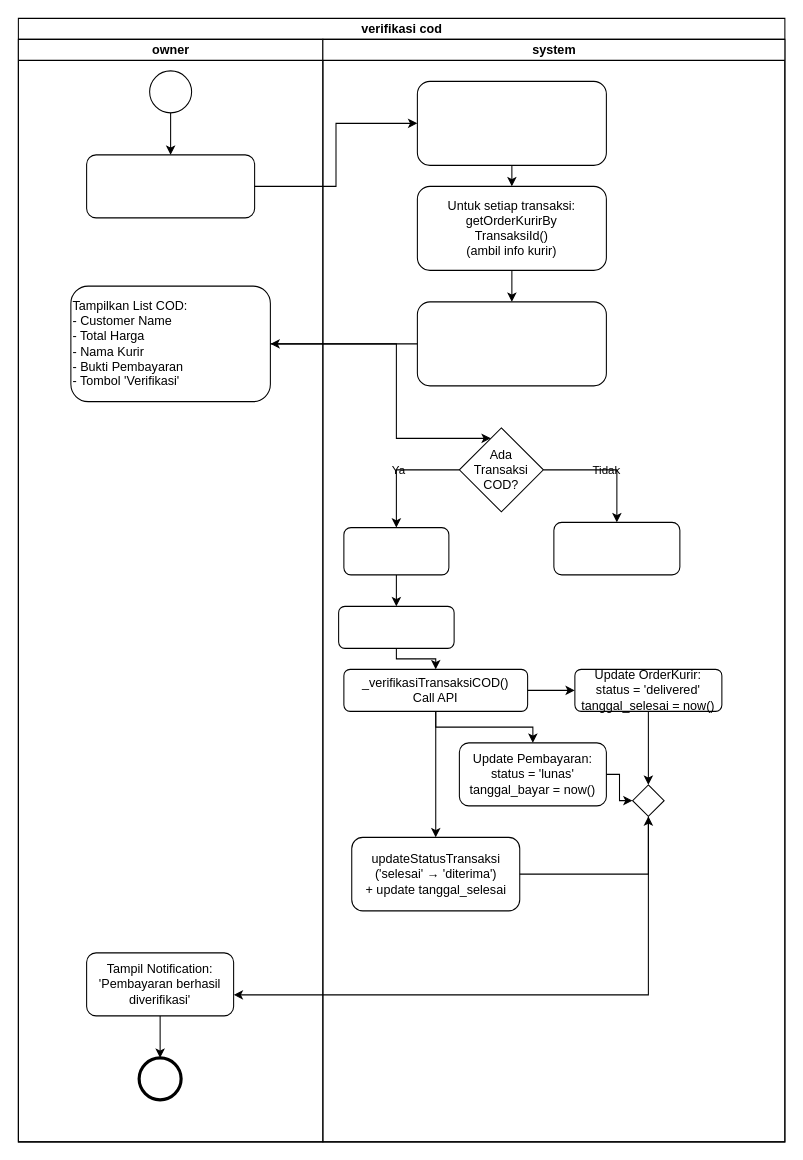
Some shapes in this 803 by 1160 pixel diagram are drawn without their labels. The shapes that lost their labels are listed below. From the top down, each one's centre as x and y in pixels, then its label:
At (x=511, y=122): "getTransaksiByStatus ('selesai') (filter transaksi dengan is_delivery = true)".
At (x=170, y=186): "Klik 'Verifikasi Pembayaran'".
At (x=511, y=343): "getPembayaranCOD ByTransaksiId() (cek bukti pembayaran)".
At (x=396, y=551): "Owner pilih transaksi untuk diverifikasi".
At (x=616, y=548): "Tampil: 'Semua transaksi COD lunas!'".
At (x=396, y=626): "Klik tombol 'Verifikasi Pembayaran'".
